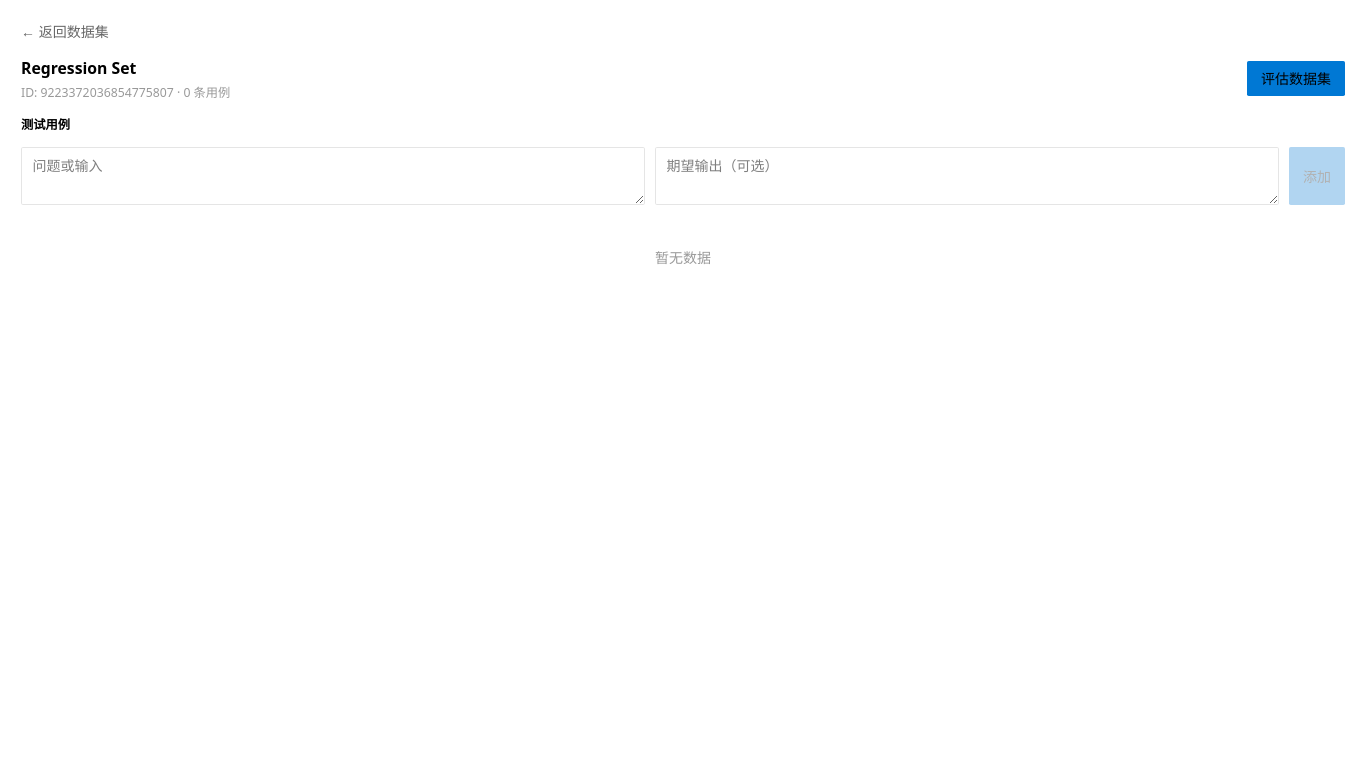
DatasetDetailPage evaluate continuity › JC-02: Evaluate Dataset preselects the opened dataset without a deep link
Click the button "评估数据集" at (1296, 79), box [1247,61,1345,96]
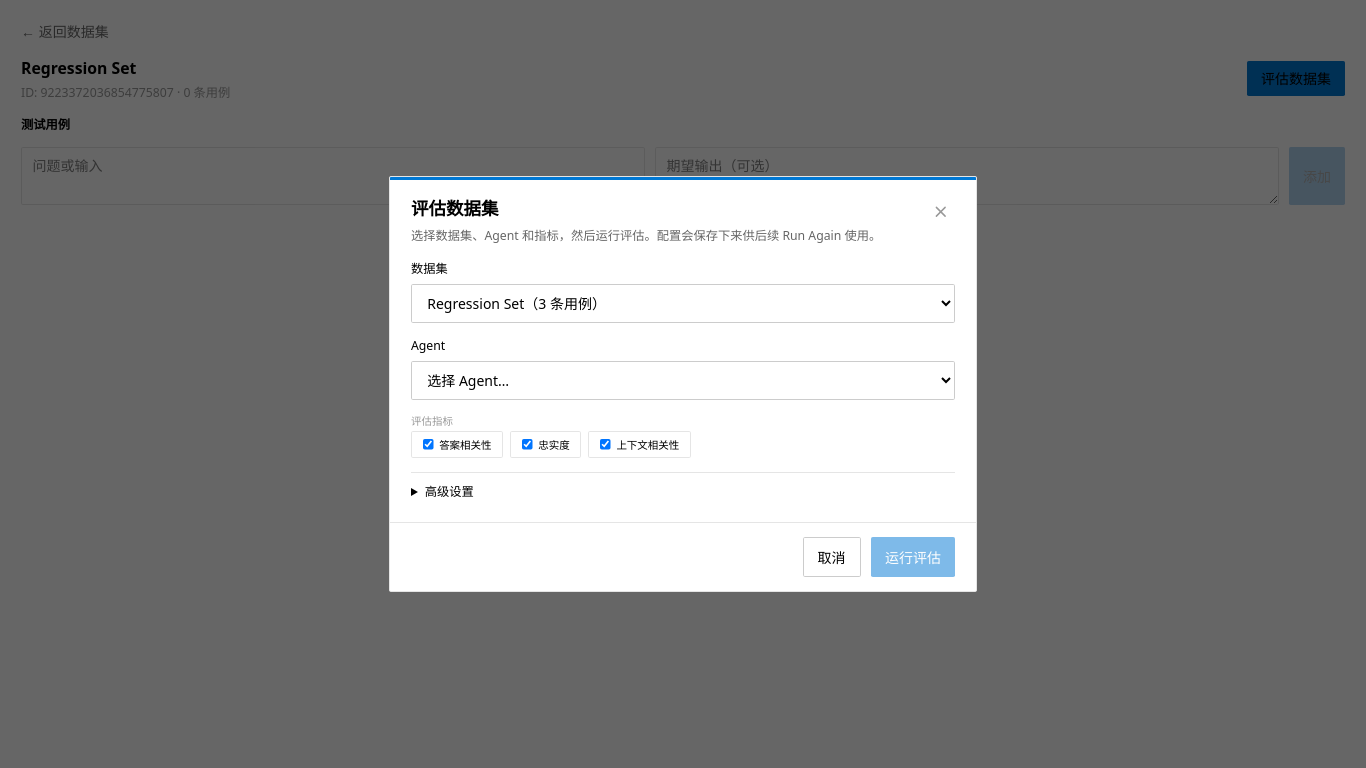
Result: the dialog is shown at [389,176,977,592]
Result: the dropdown labelled "数据集" shows "Regression Set（3 条用例）" at [411,284,955,323]
